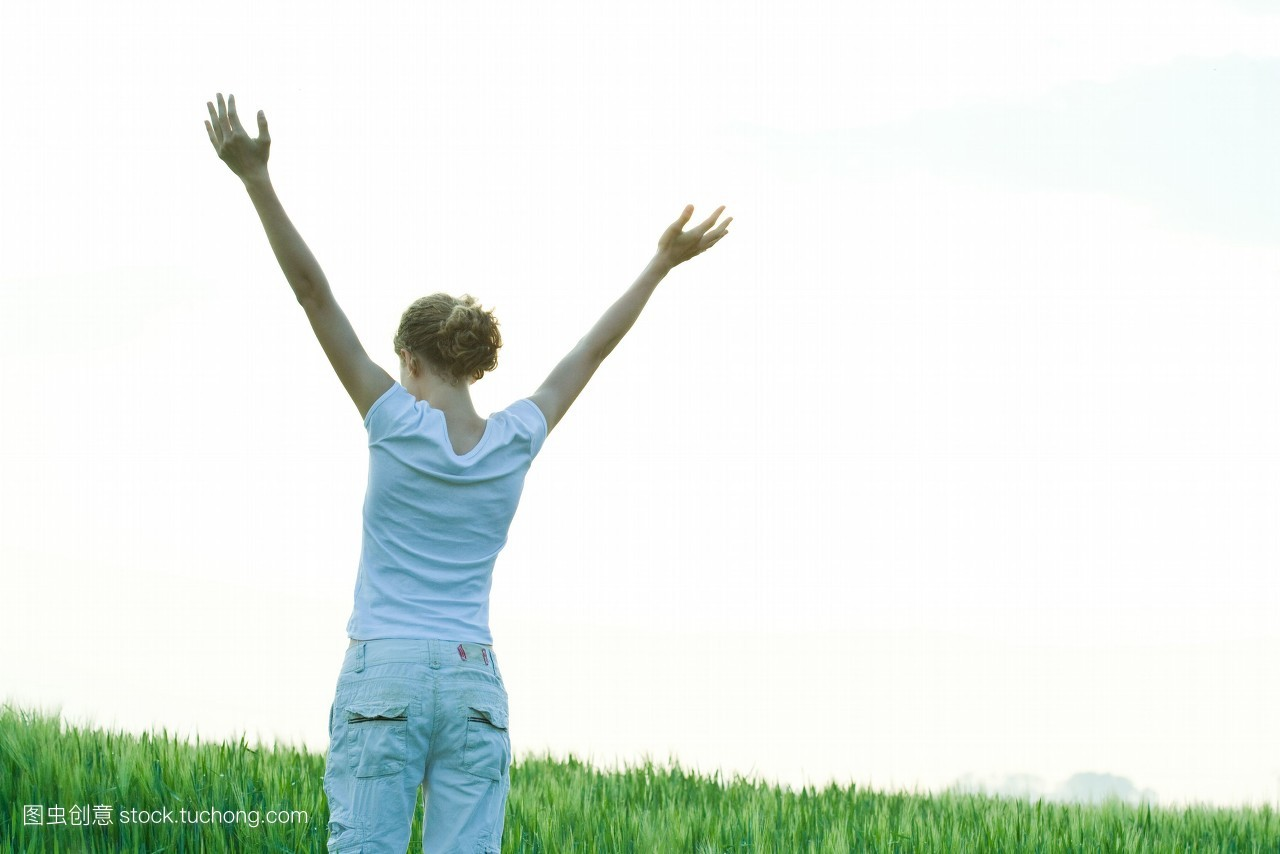handsup: (198, 71, 739, 848)
